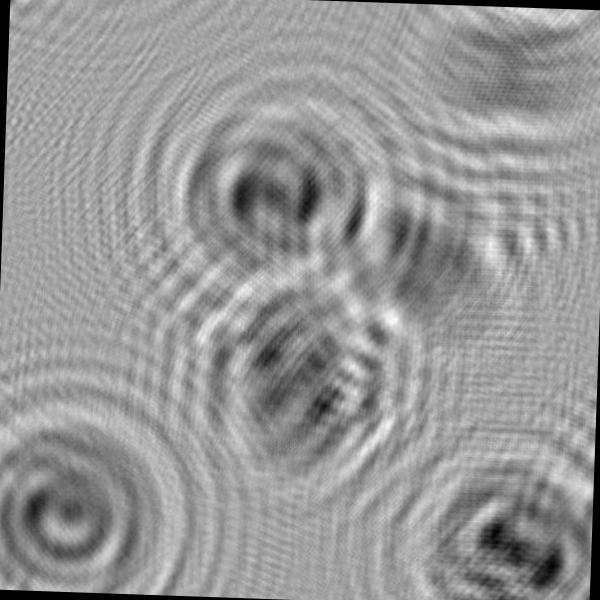B: (355, 392, 596, 600)
G: (0, 351, 236, 597)
I: (362, 2, 600, 190)
N: (148, 255, 439, 514)
S: (111, 48, 426, 334)
Y: (290, 130, 565, 378)
